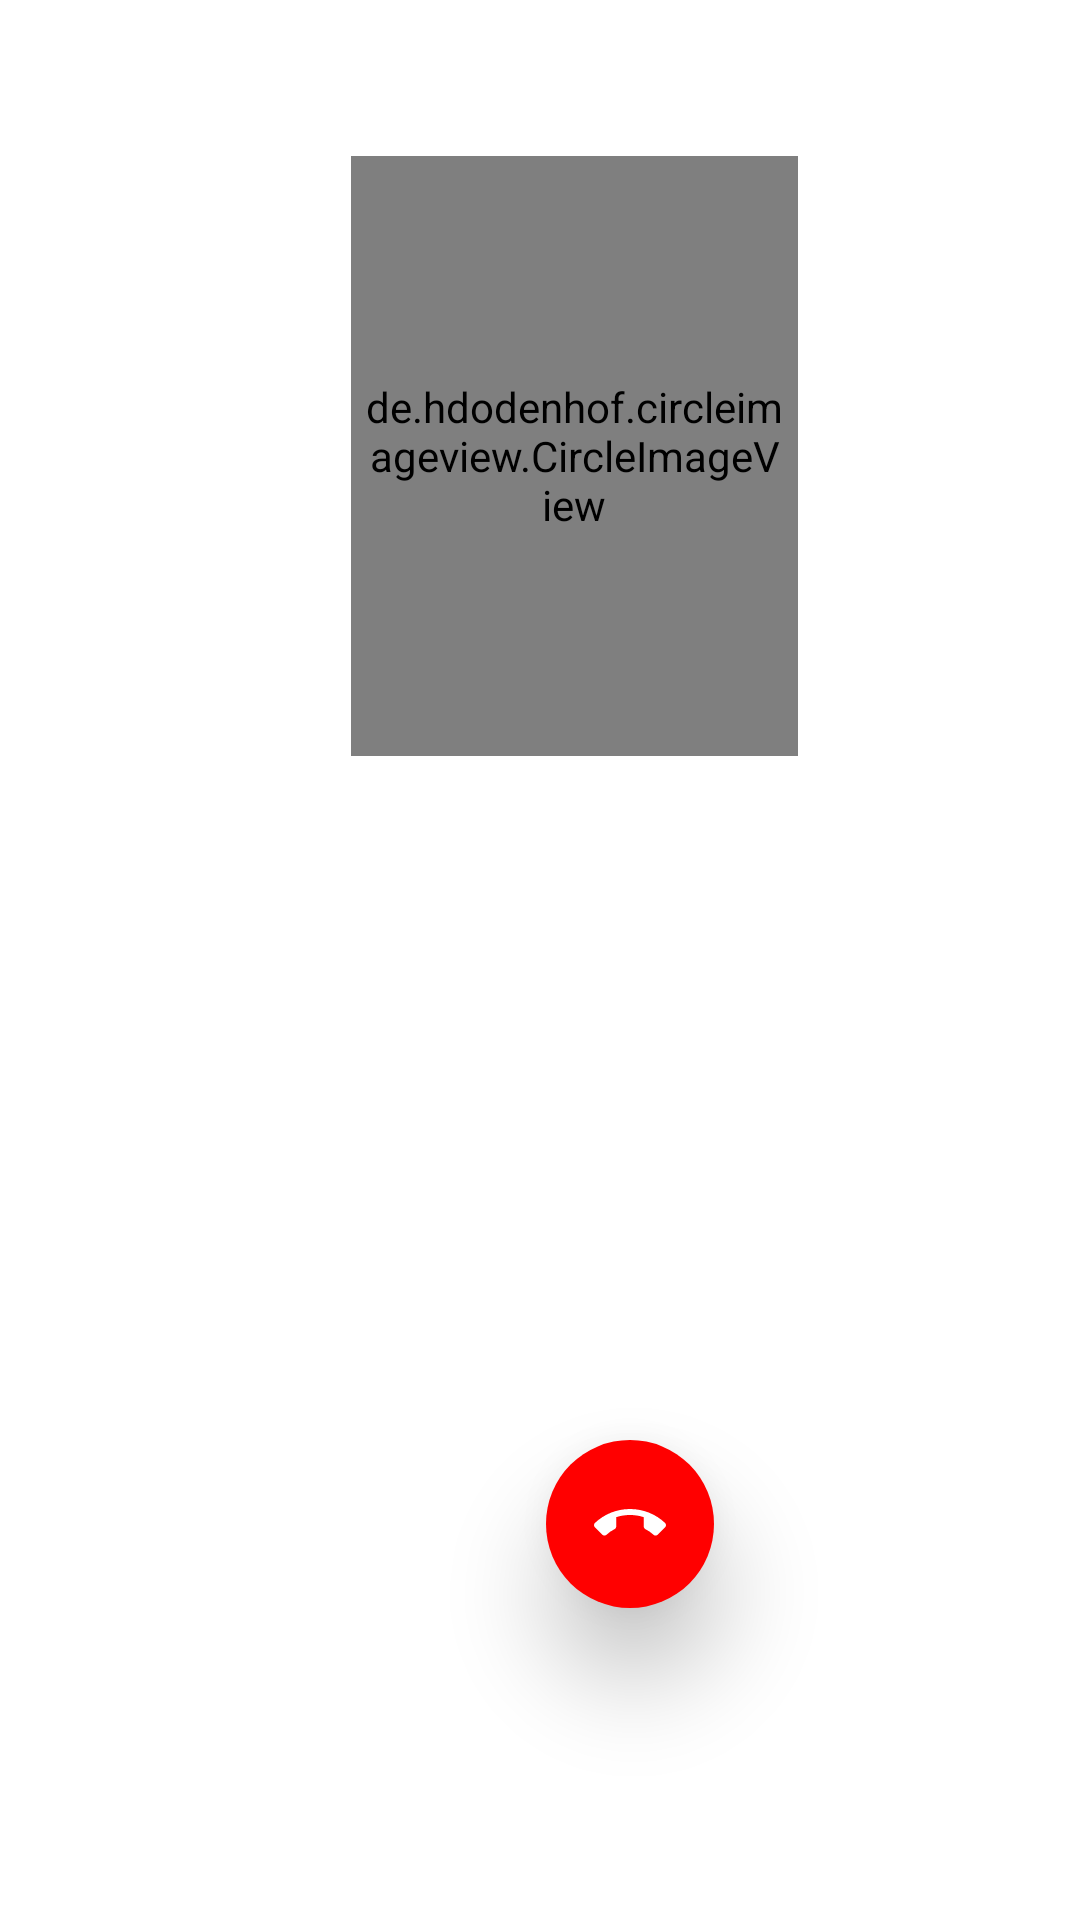

Icons on this 1080*1920 Android screen, each with the point to tap as (x=x, y=y):
call end: (x=630, y=1524)
